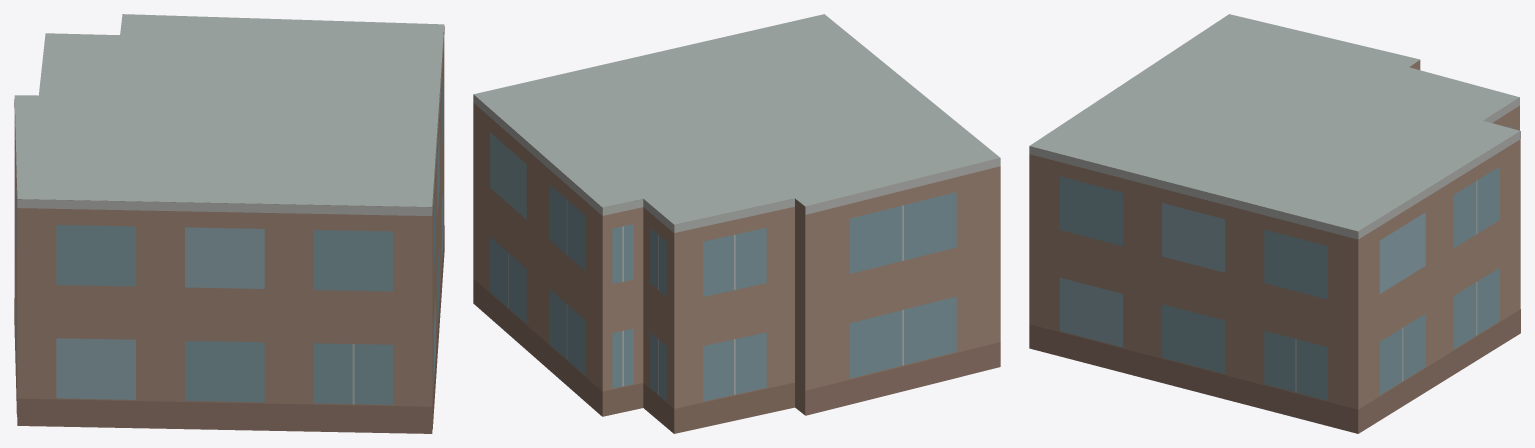
The model's file is survey-upis-32970764.glb.
3 renders of one model, left to right at view 1: azimuth 30°, elevation 25°; view 2: azimuth 150°, elevation 25°; view 3: azimuth 270°, elevation 25°, orthographic. The views are drawn at different scales.
Parts seen in each view (by area): view 1: survey-upis-32970764.tmp; view 2: survey-upis-32970764.tmp; view 3: survey-upis-32970764.tmp.
Boxes of the visible parts, left/top/right/bottom form: survey-upis-32970764.tmp: left=14, top=14, right=444, bottom=433; survey-upis-32970764.tmp: left=473, top=14, right=1000, bottom=433; survey-upis-32970764.tmp: left=1029, top=14, right=1520, bottom=433.
Size of the model in its own units: 14.06 by 6.1 by 13.43.
